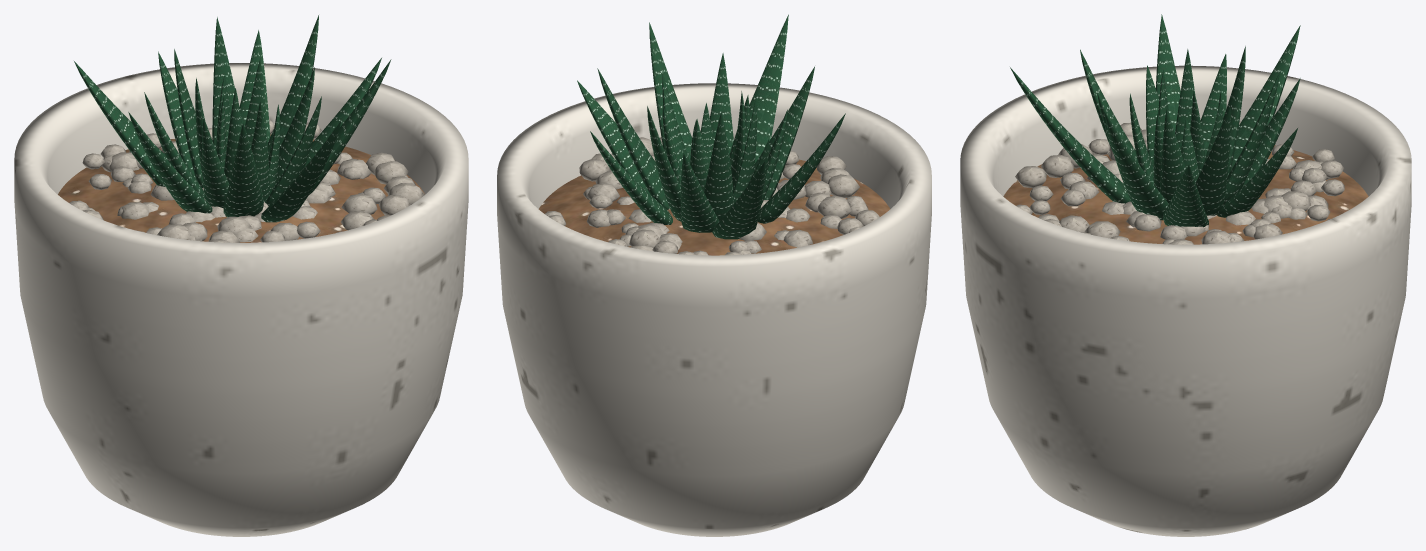
File: haworthia.glb
3 renders of one model, left to right at view 1: azimuth 30°, elevation 25°; view 2: azimuth 150°, elevation 25°; view 3: azimuth 270°, elevation 25°, orthographic. The views are drawn at different scales.
Visible parts, largest first — view 1: piece-0, piece-2, piece-1, piece-10, piece-5, piece-7, piece-4, piece-11, piece-15, piece-14, piece-17, piece-8 (+10 smaller); view 2: piece-0, piece-2, piece-1, piece-5, piece-11, piece-4, piece-17, piece-9, piece-7, piece-8, piece-10, piece-6 (+9 smaller); view 3: piece-0, piece-2, piece-1, piece-5, piece-8, piece-11, piece-4, piece-3, piece-6, piece-14, piece-7, piece-16 (+10 smaller).
Part boxes in pixels (x1,y1,x2,y2): piece-0: (14,63,468,536); piece-2: (69,119,424,242); piece-1: (58,134,424,242); piece-10: (223,123,263,217); piece-5: (261,121,340,222); piece-7: (128,112,212,213); piece-4: (74,61,167,186); piece-11: (267,15,318,157); piece-15: (202,118,229,208); piece-14: (212,17,242,149); piece-17: (174,49,203,187); piece-8: (304,59,391,195); piece-0: (497,83,931,536); piece-2: (545,137,879,255); piece-1: (538,159,890,255); piece-5: (749,14,788,163); piece-11: (597,68,669,209); piece-4: (712,162,765,239); piece-17: (704,111,734,220); piece-9: (680,153,719,232); piece-7: (758,113,845,223); piece-8: (649,22,692,160); piece-10: (754,66,814,199); piece-6: (590,131,672,224); piece-0: (960,65,1411,536); piece-2: (1015,121,1344,244); piece-1: (1003,145,1368,244); piece-5: (1010,67,1130,203); piece-8: (1104,111,1168,220); piece-11: (1195,107,1230,215); piece-4: (1231,25,1300,170); piece-3: (1163,165,1208,227); piece-6: (1217,128,1297,217); piece-14: (1223,71,1279,204); piece-7: (1155,14,1180,132); piece-16: (1159,109,1185,203).
Size of the model in its own units: 0.164 by 0.1735 by 0.164.
Materials: 4 (4 with a texture image).
